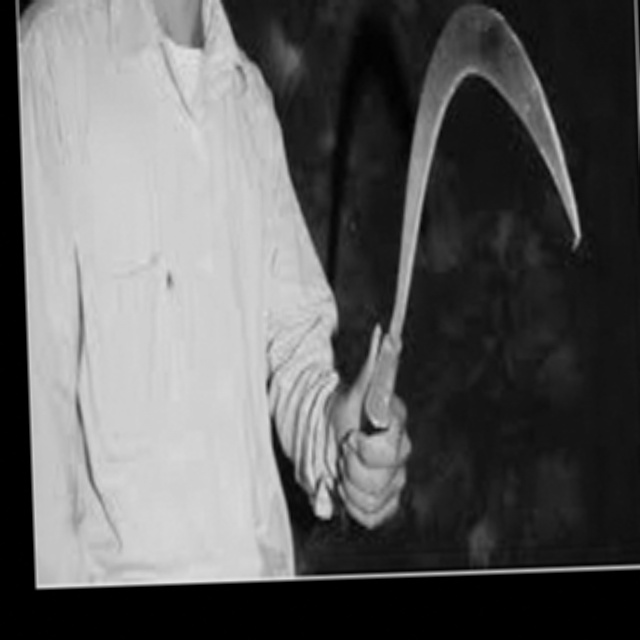Sharp-Object: (319, 0, 600, 525)
